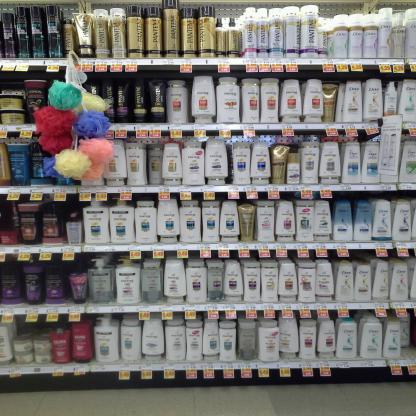Void: (18, 319, 50, 332), (11, 71, 23, 89)
